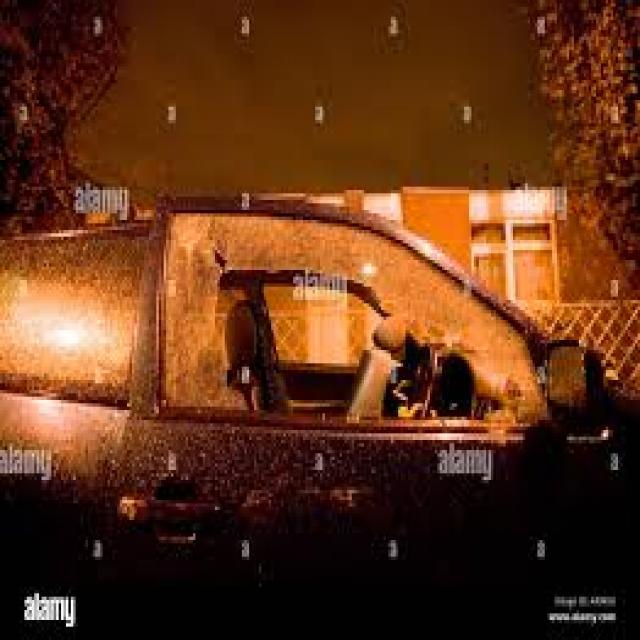damaged-window: (146, 200, 566, 431)
